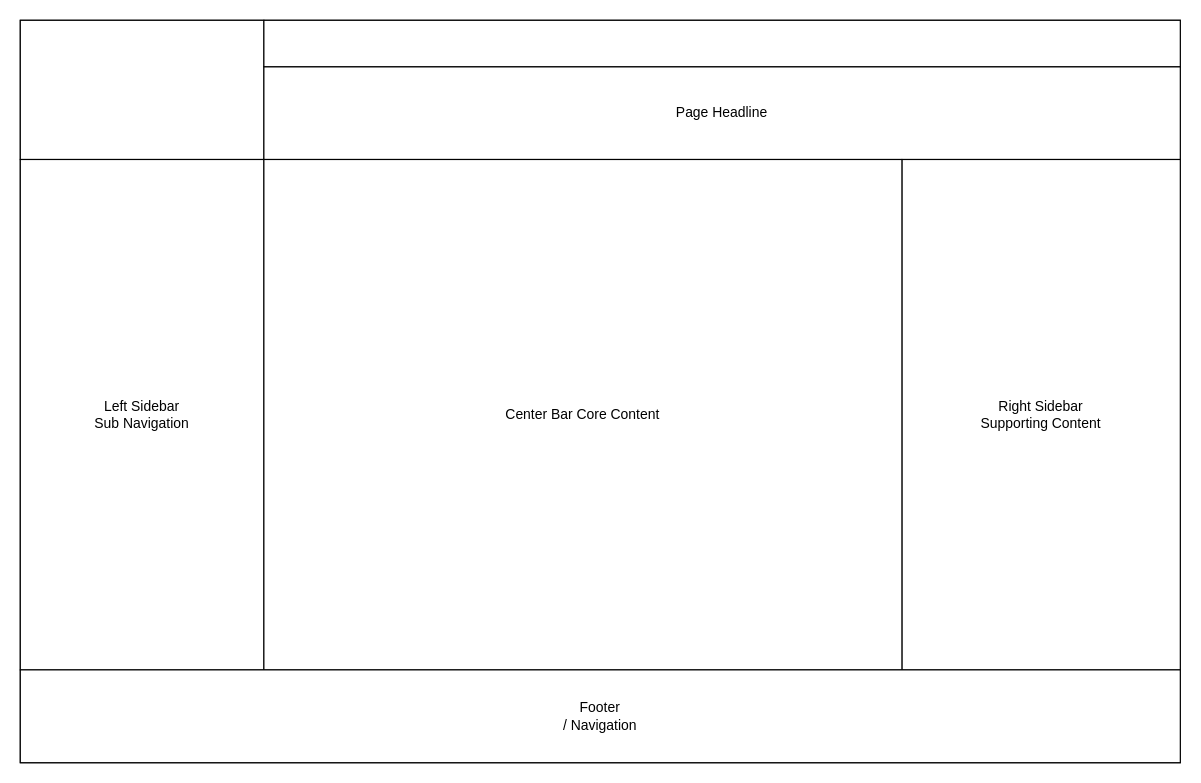
The diagram is 1201 pixels wide and 783 high, and some of its shapes have lost their labels. Here are the shapes that lost their labels. From the top down, the box of each, then its label:
(263, 19, 1180, 67): Main Navigation Panel
(19, 19, 264, 160): LOGO
